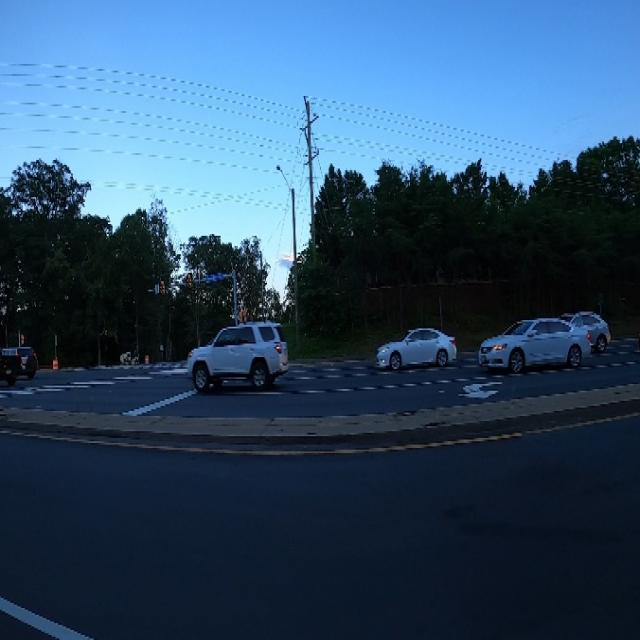cars: (189, 315, 287, 394), (479, 314, 591, 378), (371, 324, 458, 374), (559, 306, 613, 354), (0, 334, 37, 381), (0, 348, 22, 396)
